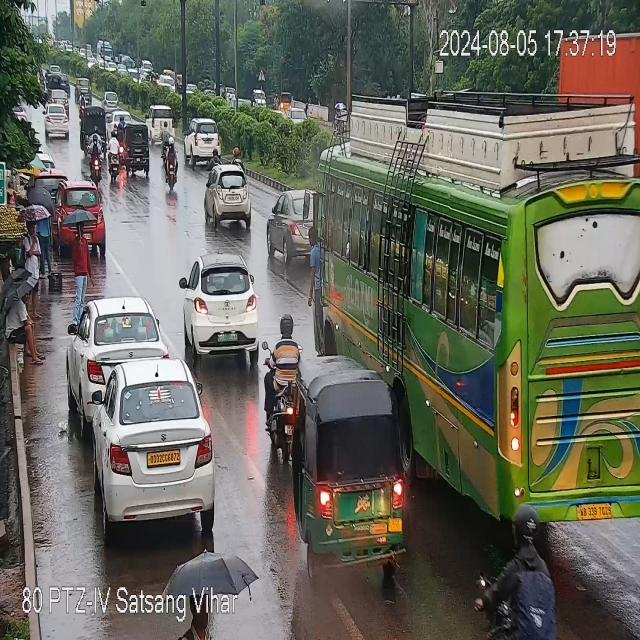2-wheelers: (477, 547, 558, 638), (261, 310, 304, 441), (106, 125, 126, 181), (160, 143, 183, 189), (89, 123, 104, 185), (78, 91, 89, 115)
auto: (296, 356, 406, 570), (125, 121, 153, 180)
bus: (305, 69, 639, 469)
car: (91, 361, 218, 523), (70, 295, 164, 399), (182, 254, 263, 370), (266, 183, 316, 260), (56, 181, 108, 253), (203, 160, 257, 228), (187, 120, 224, 166), (148, 105, 176, 143), (41, 104, 72, 136)
pedestrian: (7, 177, 54, 275), (3, 286, 47, 369), (59, 213, 94, 316)
